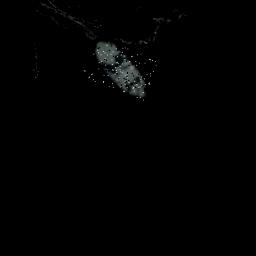boat: (81, 36, 159, 102)
